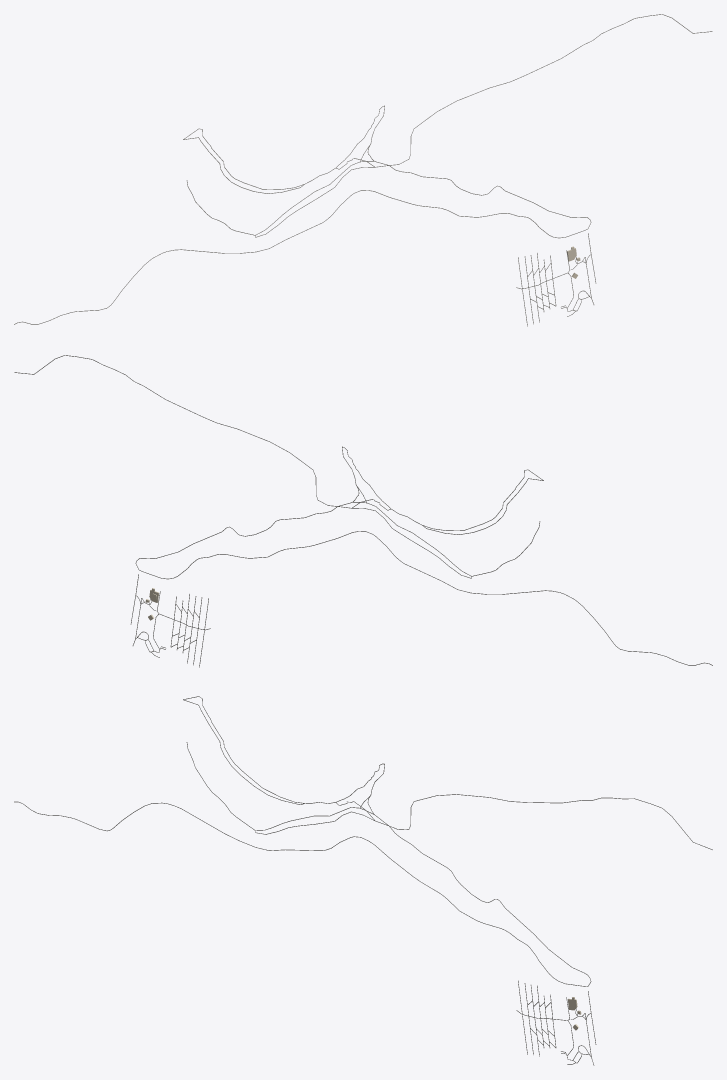
Rendered from historic-palestine-10_18_3522_3127.glb.
The picture shows the model from 3 angles, top to bottom: view 1: azimuth 30°, elevation 25°; view 2: azimuth 150°, elevation 25°; view 3: azimuth 330°, elevation 25°; orthographic projection.
Parts seen in each view (by area): view 1: Road; view 2: Road; view 3: Road.
Part boxes in pixels (x1=…): Road: x1=14, y1=165, x2=591, y2=324; Road: x1=135, y1=506, x2=712, y2=665; Road: x1=14, y1=801, x2=591, y2=986.
Bounding box in the file's own units: 1747 × 675 × 5.
